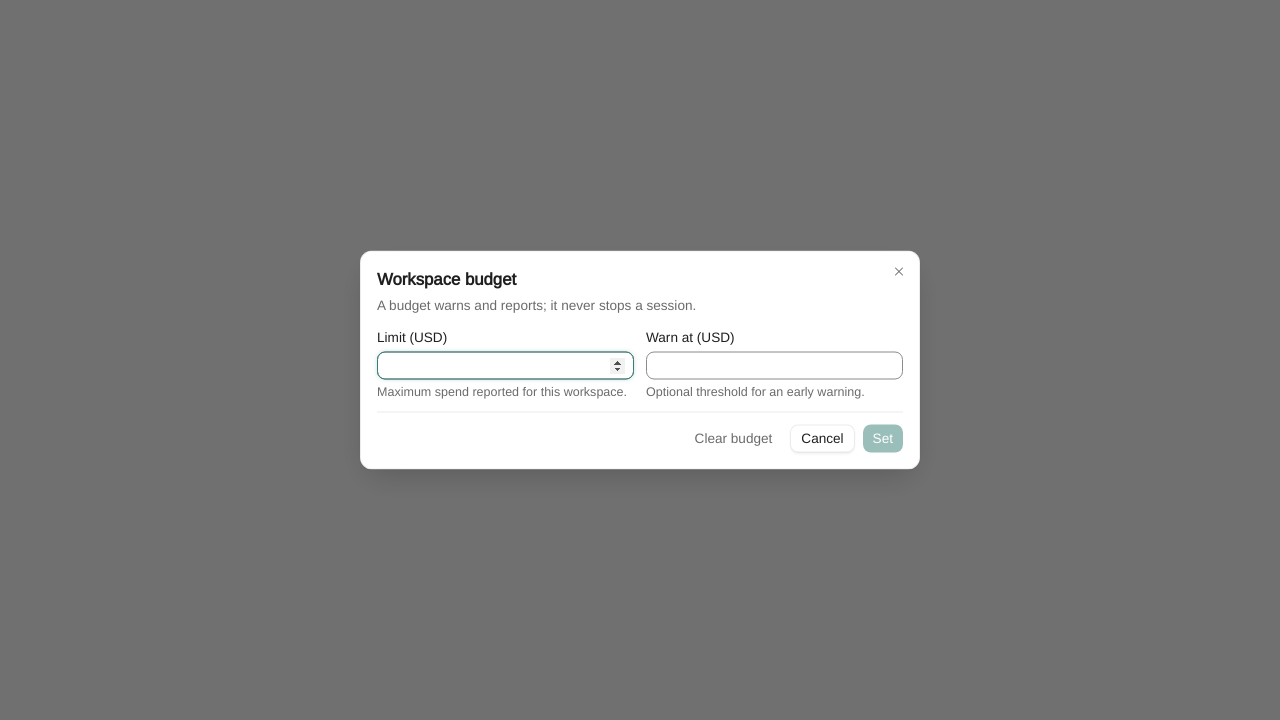
Test case: budget dialog › shows Clearing… on Clear budget alone while the server decides
Type "2" into the 1st number field named "Limit" at (506, 366), box [377, 352, 634, 380]
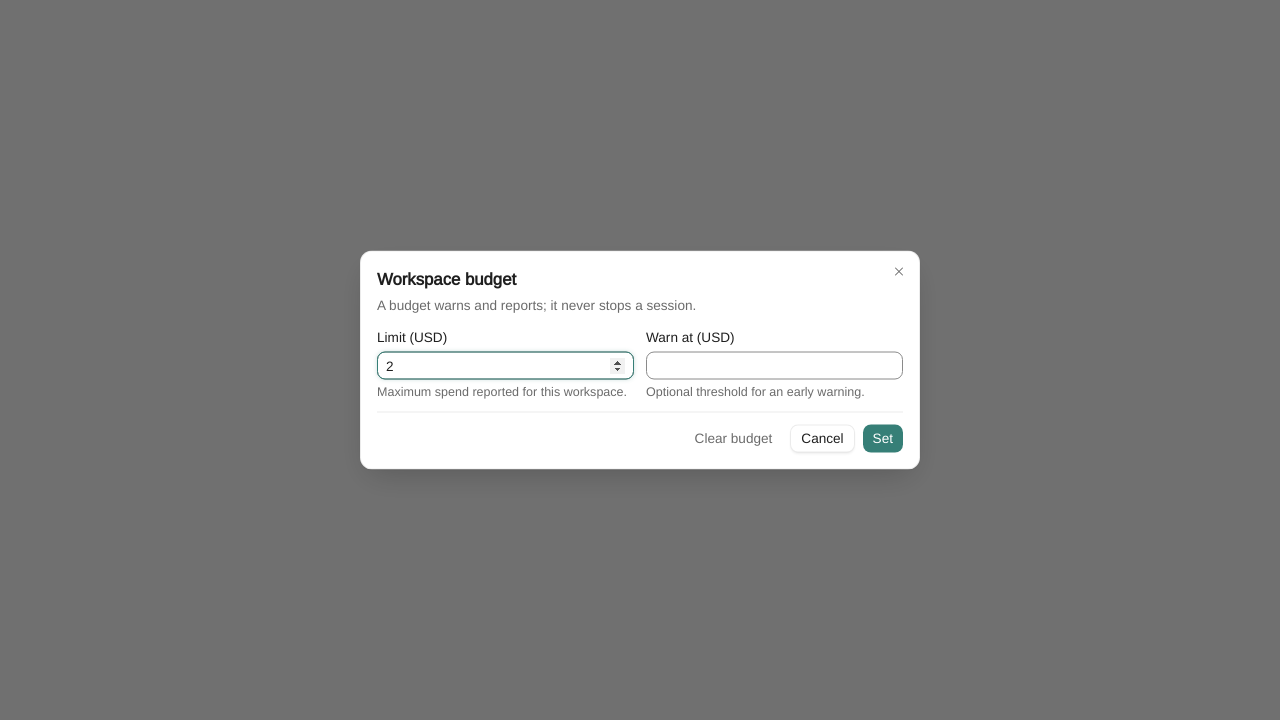
Click the 1st button named "Clear budget" at (734, 438), box [685, 424, 782, 452]
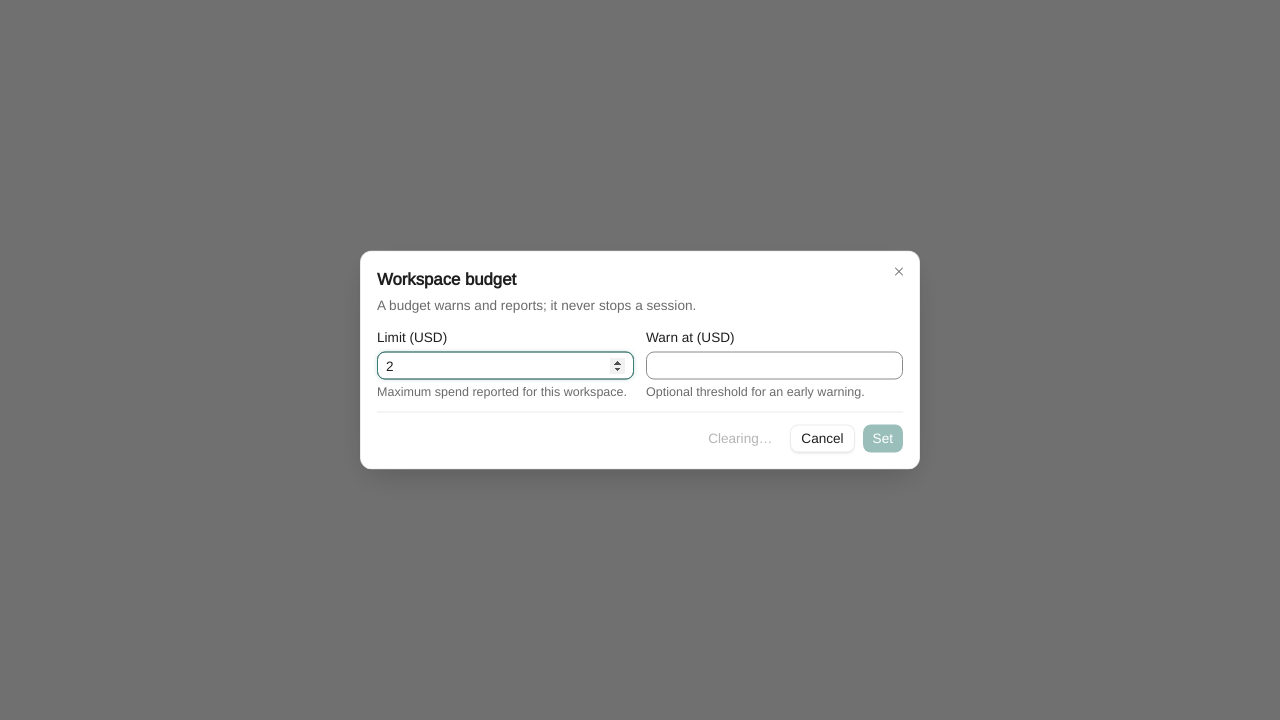
Expected: the 2nd button named "Cancel" is enabled, [790, 424, 855, 452]
Expected: the 1st button named "Clearing…" is disabled, [698, 424, 782, 452]
Expected: the 3rd button named "Set" is disabled, [863, 424, 903, 452]
